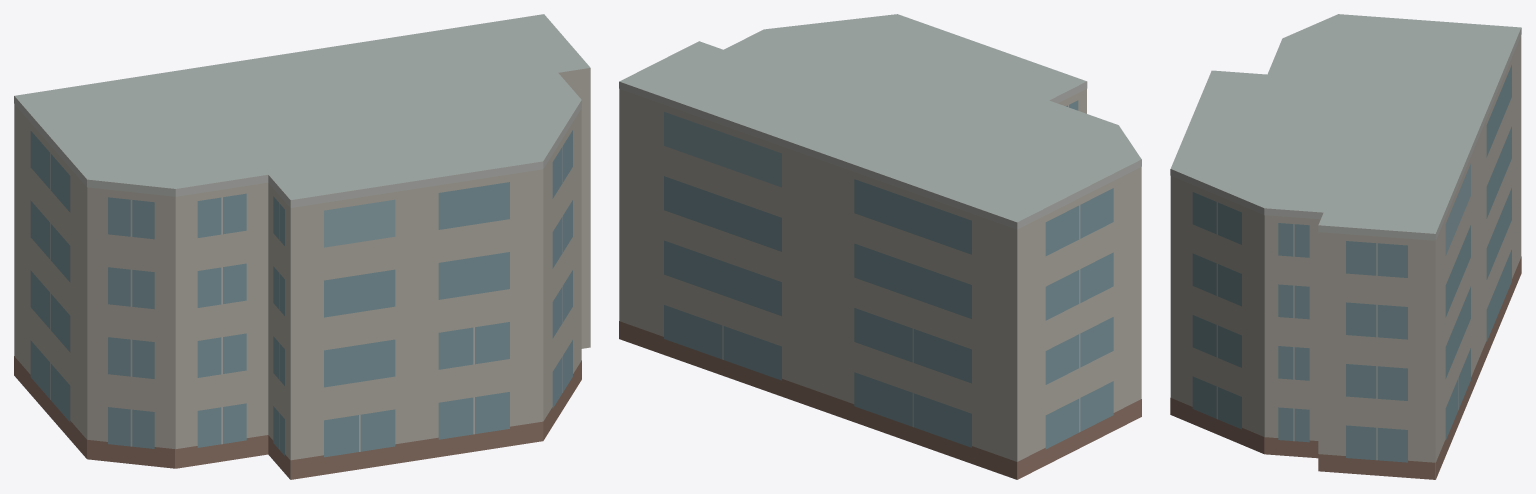
Rendered from survey-upis-32819243.glb.
3 views of the same model, side by side, from view 1: azimuth 30°, elevation 25°; view 2: azimuth 150°, elevation 25°; view 3: azimuth 270°, elevation 25° (orthographic). The views are drawn at different scales.
Visible parts, largest first — view 1: survey-upis-32819243.tmp; view 2: survey-upis-32819243.tmp; view 3: survey-upis-32819243.tmp.
Boxes of the visible parts, x1,y1,x2,y2 form: survey-upis-32819243.tmp: [14, 14, 590, 479]; survey-upis-32819243.tmp: [619, 14, 1141, 479]; survey-upis-32819243.tmp: [1170, 14, 1521, 479].
Size of the model in its own units: 16.69 by 8.7 by 11.26.
